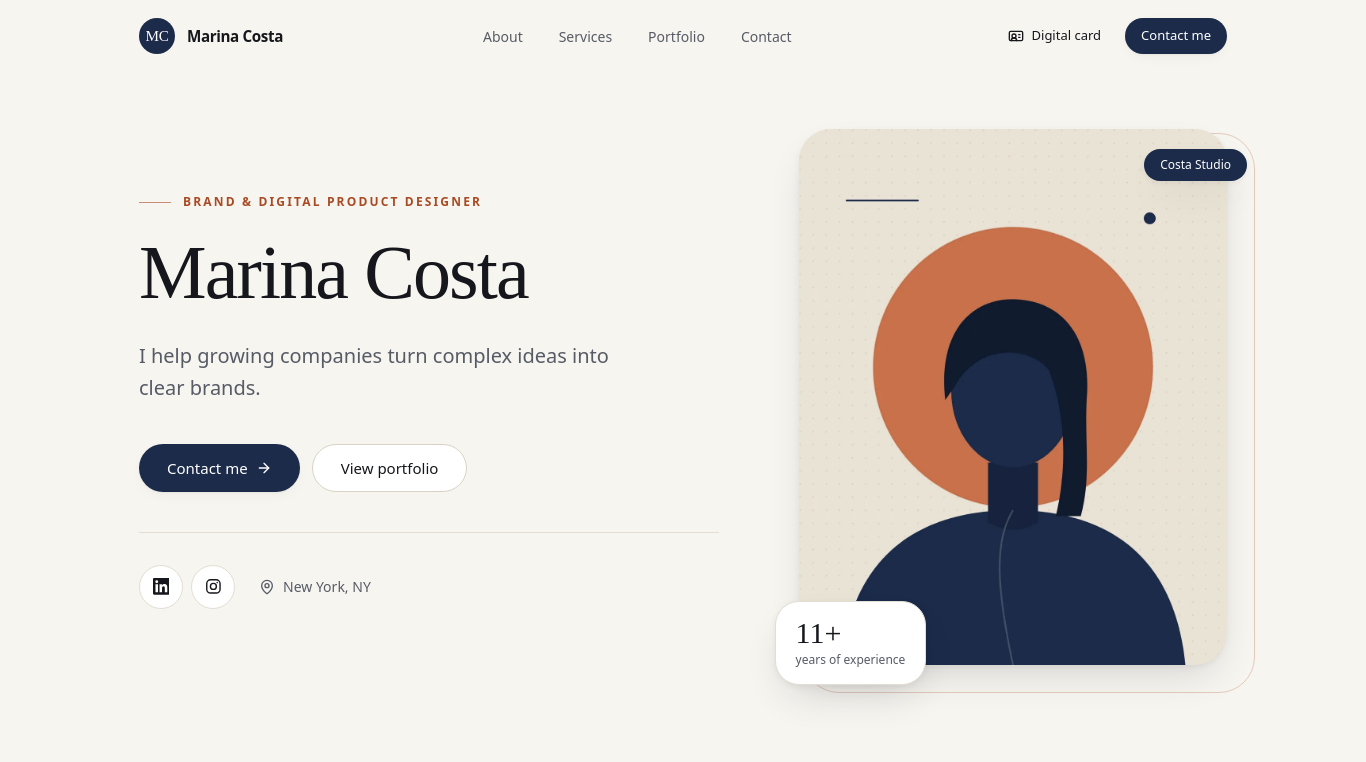
Scenario: navigation and routing › navigates from the header to the digital card
The width and height of the screenshot is (1366, 762).
Click the link "Digital card" at (1054, 35), box [1008,26,1101,44]
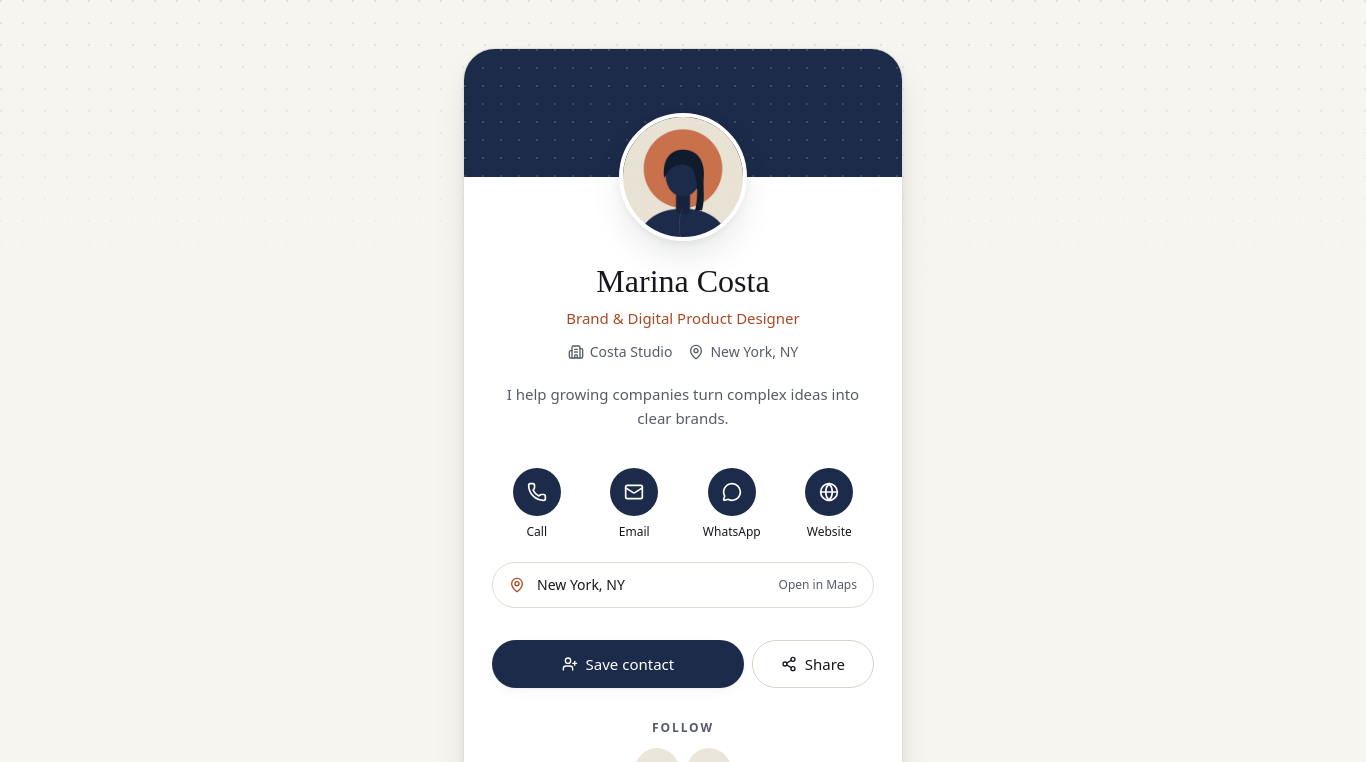
Check: the button "Share" is shown, box [752,640,874,688]
Check: the link "Save contact" is shown, box [492,640,744,688]
